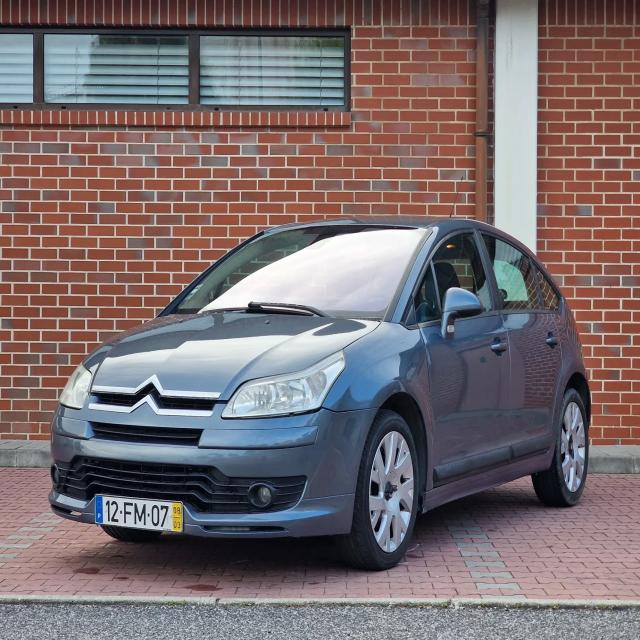portuguese-license-plates: (93, 494, 187, 534)
